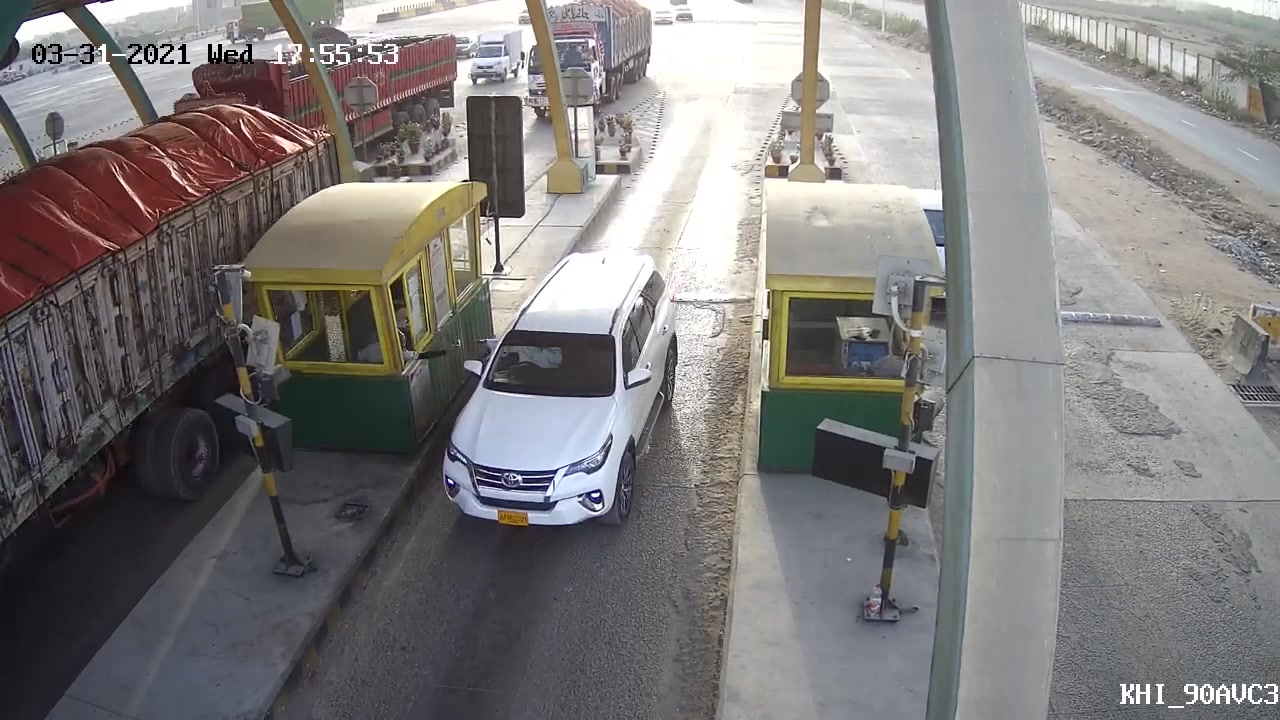F1: (418, 246, 685, 531)
